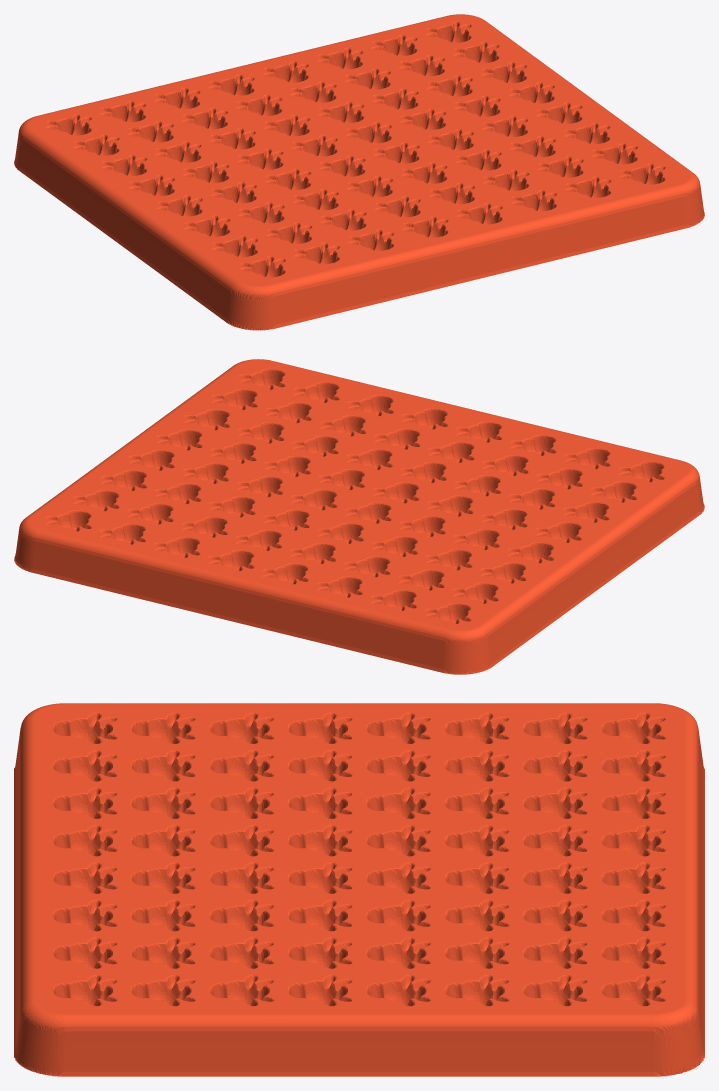
File: mold.glb
3 views of the same model, one above another, from view 1: azimuth 30°, elevation 25°; view 2: azimuth 150°, elevation 25°; view 3: azimuth 270°, elevation 25° (orthographic). The views are drawn at different scales.
Parts seen in each view (by area): view 1: geometry_0; view 2: geometry_0; view 3: geometry_0.
Part boxes in pixels (box(x1,y1,x2,y2)): geometry_0: box(14, 14, 704, 330); geometry_0: box(14, 359, 704, 674); geometry_0: box(14, 703, 704, 1076).
Bounding box in the file's own units: 0.1355 × 0.0105 × 0.1211.
